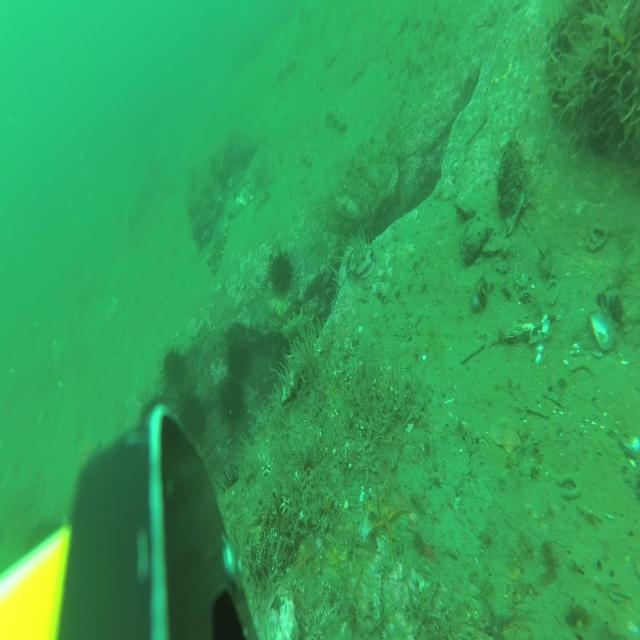echinus: (218, 462, 250, 522), (30, 517, 60, 564), (220, 378, 247, 430), (160, 342, 186, 392), (268, 246, 294, 296), (140, 394, 166, 440), (227, 340, 251, 387), (181, 395, 205, 438)
holothurian: (282, 308, 318, 347), (210, 215, 228, 275), (324, 106, 347, 134), (280, 57, 297, 80), (300, 150, 316, 171)
scallop: (492, 416, 522, 456), (236, 184, 254, 209), (326, 38, 340, 66)
starfish: (373, 495, 407, 541), (324, 538, 348, 576), (296, 550, 314, 571)
